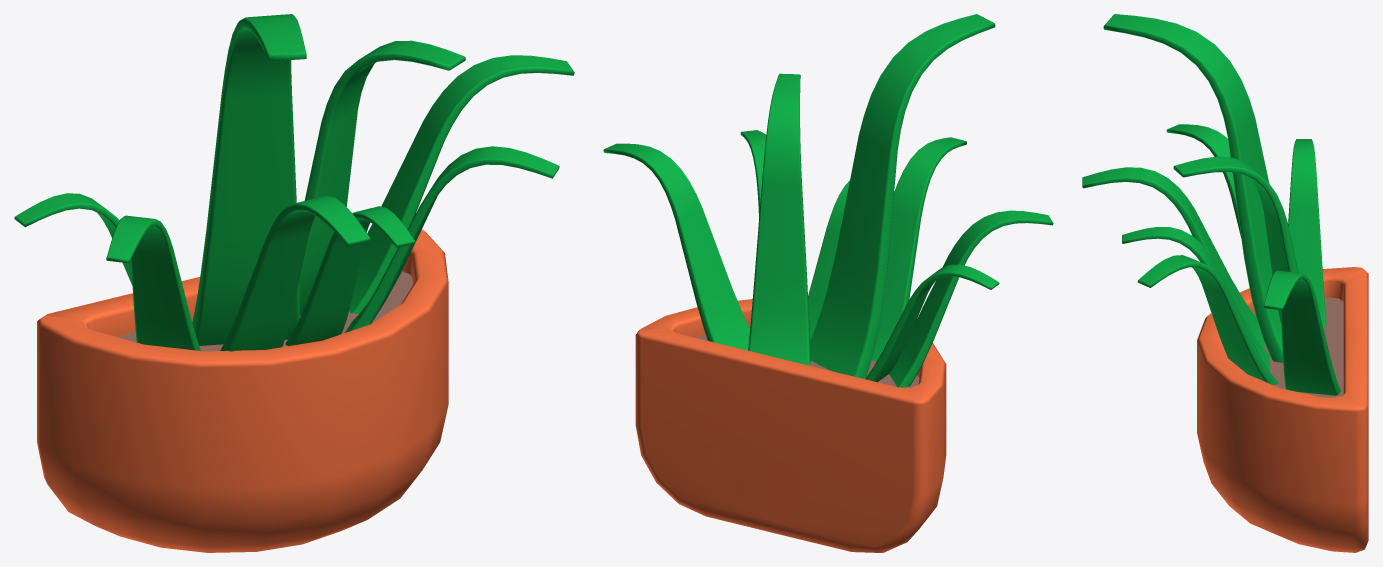
The model's file is Town_12_Plant_3.glb.
3 views of the same model, side by side, from view 1: azimuth 30°, elevation 25°; view 2: azimuth 150°, elevation 25°; view 3: azimuth 270°, elevation 25° (orthographic). The views are drawn at different scales.
Parts seen in each view (by area): view 1: Town_12_Plant_3; view 2: Town_12_Plant_3; view 3: Town_12_Plant_3.
Part boxes in pixels (x1,y1,x2,y2): Town_12_Plant_3: [14, 14, 574, 552]; Town_12_Plant_3: [603, 14, 1053, 552]; Town_12_Plant_3: [1082, 14, 1368, 552].
Bounding box in the file's own units: 0.6356 × 0.6748 × 0.3879.
1 material, 1 textured.
